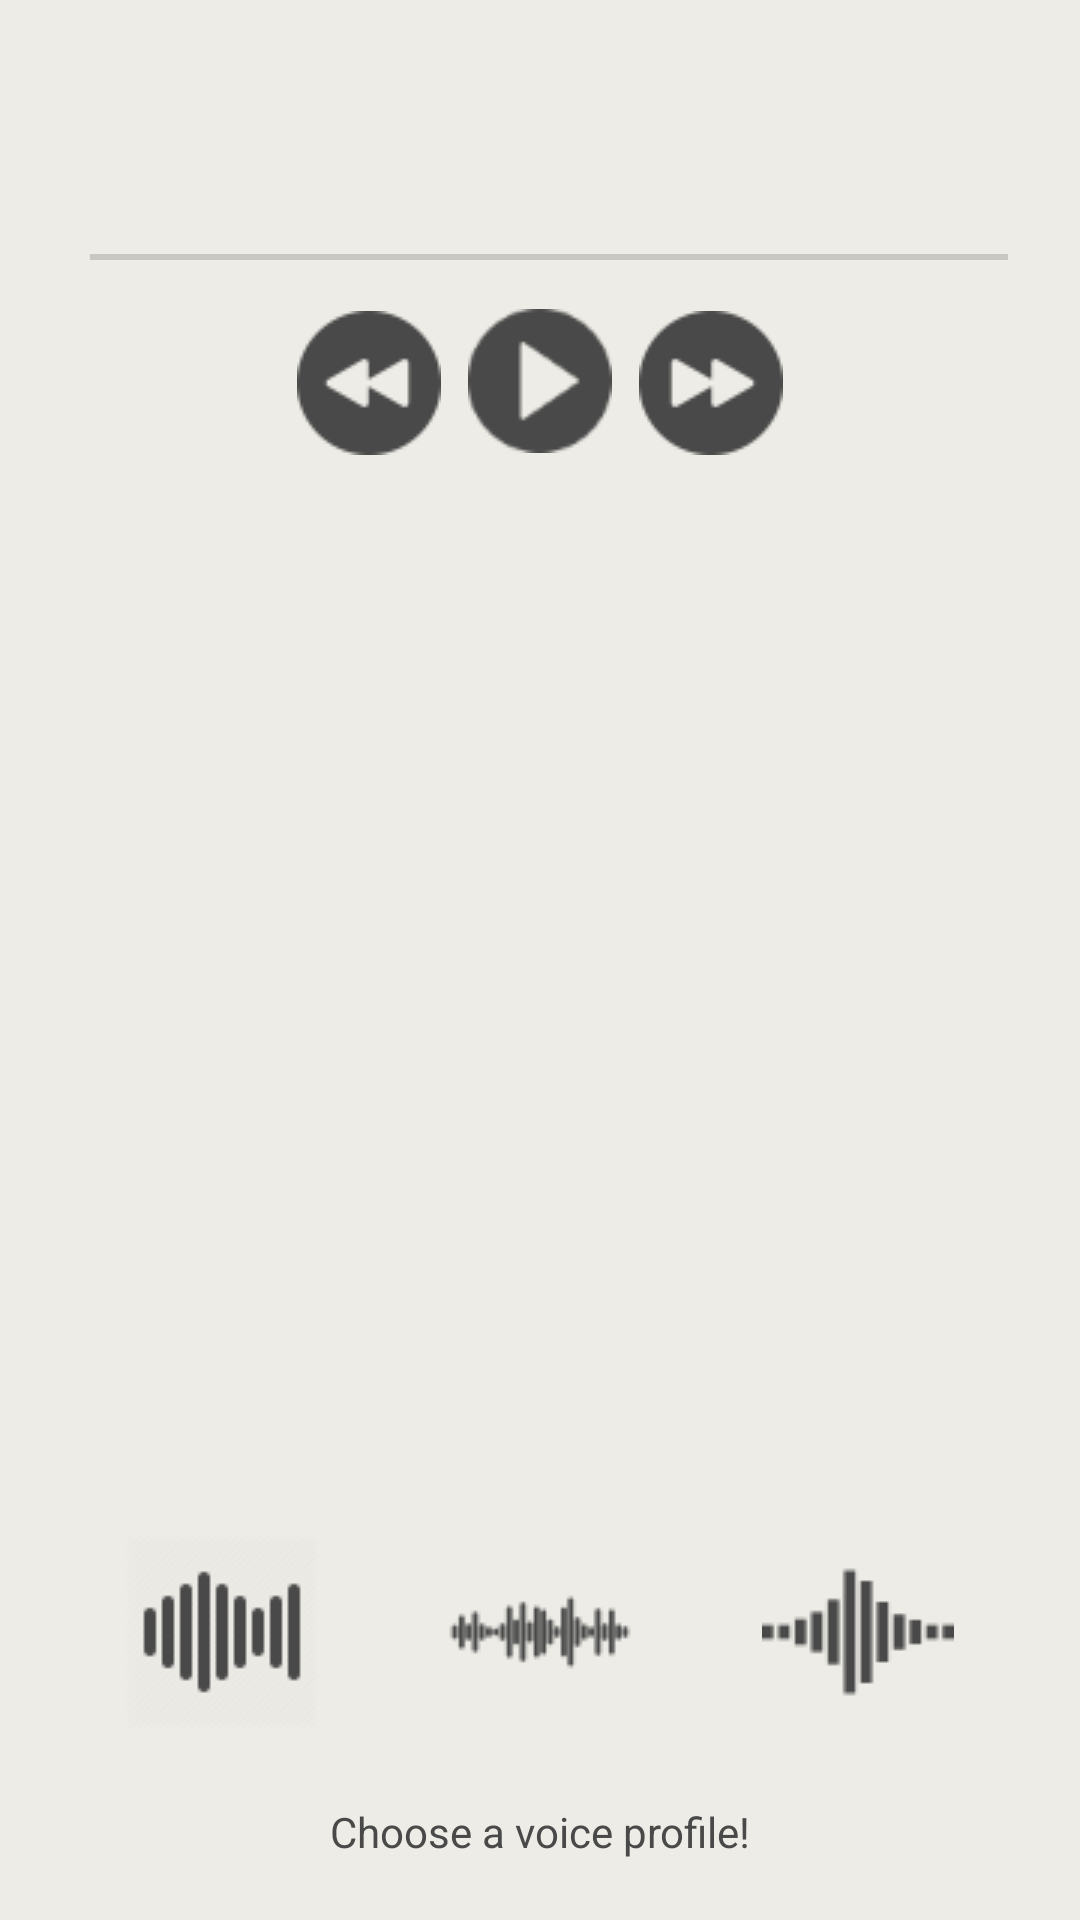

Where icons sit on this 1080x1920 app screen, as (x1, y1, x2, y2):
Forward: (639, 311, 783, 455)
High Pitch: (450, 1596, 630, 1668)
Play: (468, 309, 612, 453)
Rewind: (297, 311, 441, 455)
